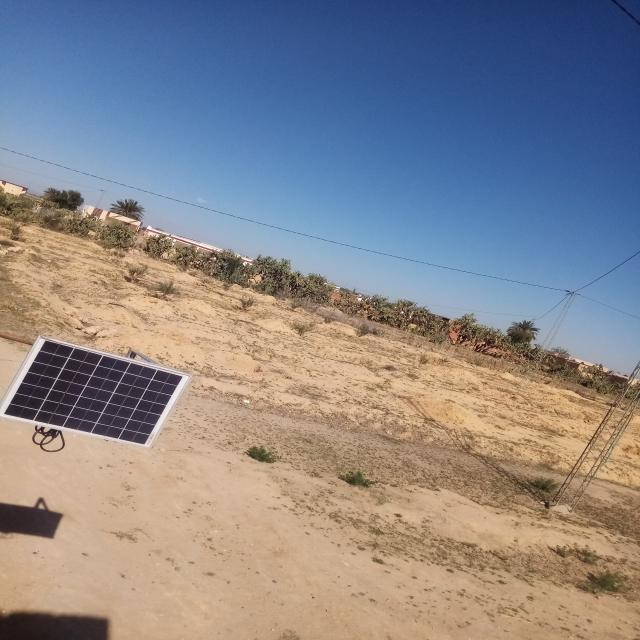no faulty: (1, 337, 192, 447)
